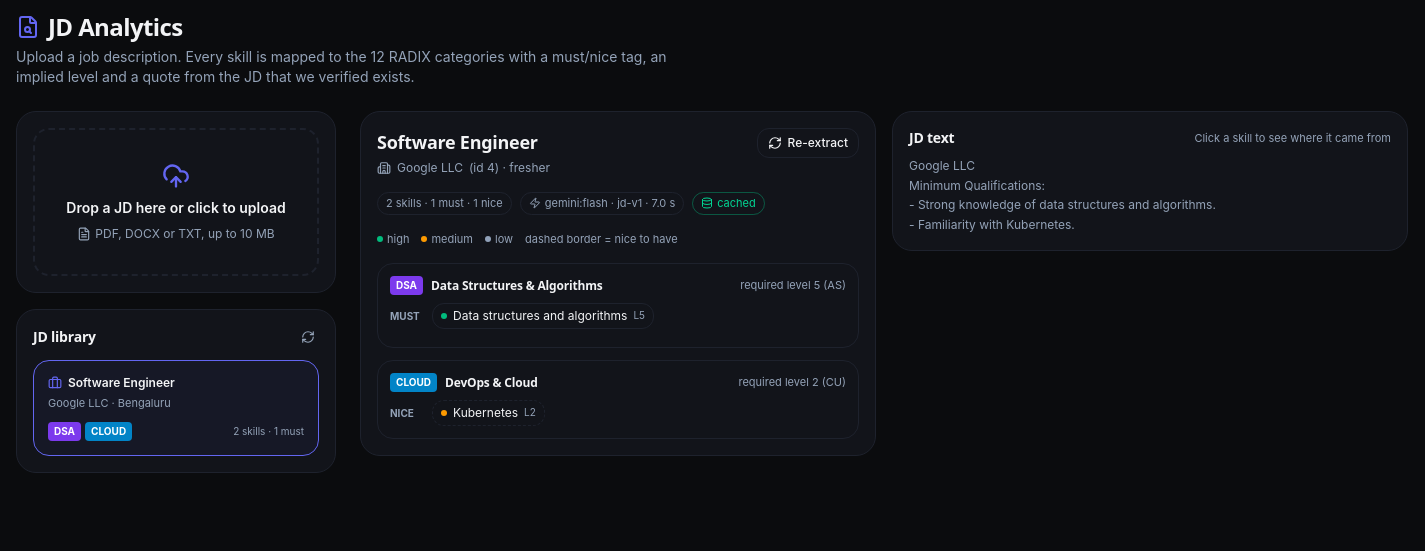
Test: JD Analytics page › opens the newest JD, groups skills by category and highlights evidence on click
Expected: the heading "Software Engineer" is shown, [377,130,538,154]
Expected: the element "Data Structures & Algorithms" is shown, [377,263,859,348]
Click the button "Kubernetes L2".
click(488, 413)  # box [432,400,545,426]
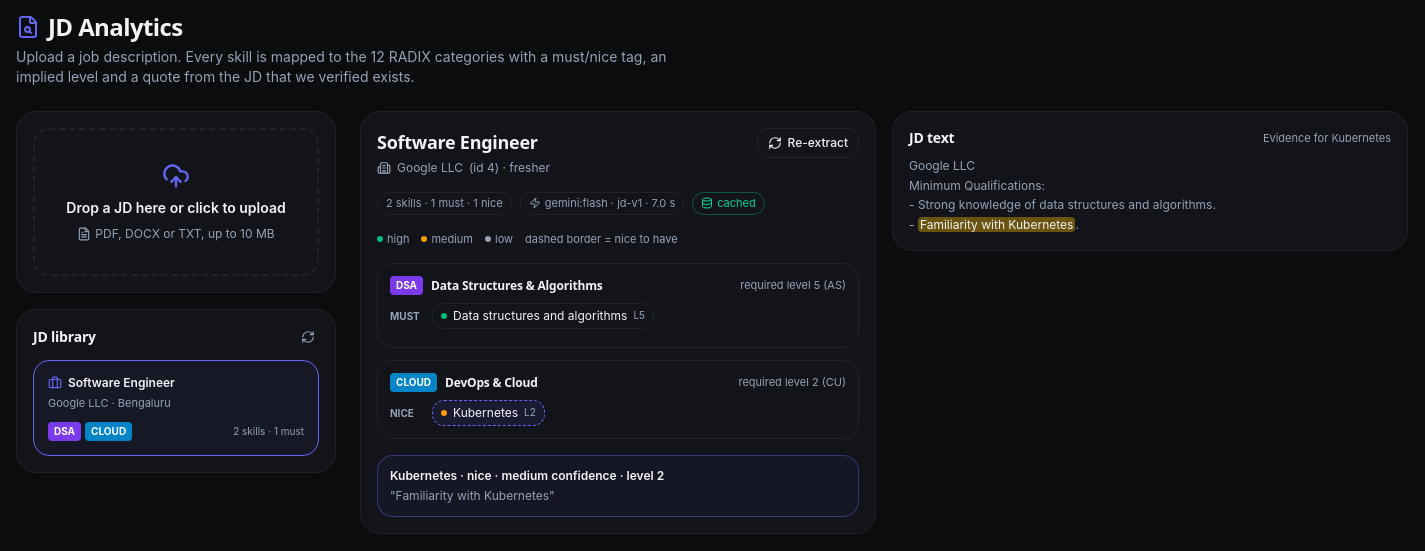
Expected: the text "Familiarity with Kubernetes" is shown, [918,216,1075,232]
Expected: the text "Evidence for Kubernetes" is shown, [1263,130,1391,146]
